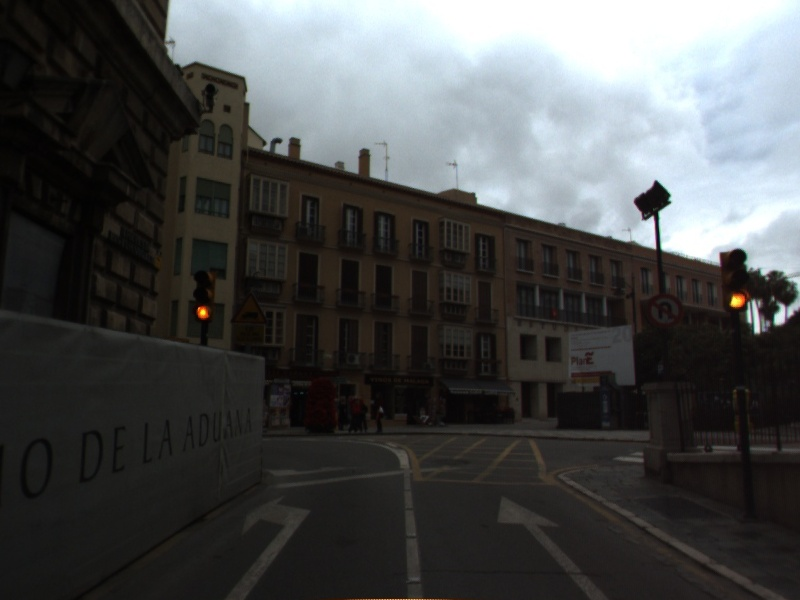LEFT: (222, 493, 313, 600)
STRAIGHT: (495, 492, 610, 600)
